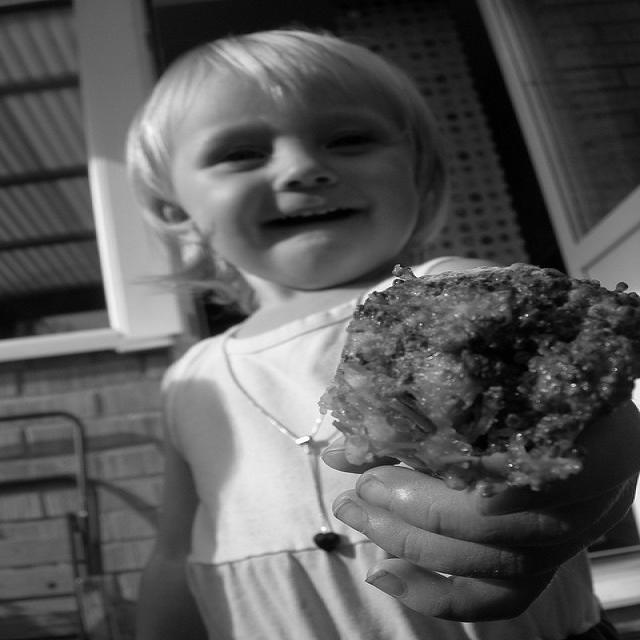monkey: (121, 24, 640, 640)
